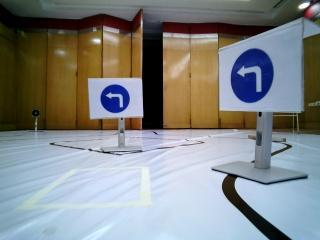left: (226, 45, 287, 104), (91, 79, 143, 118)
